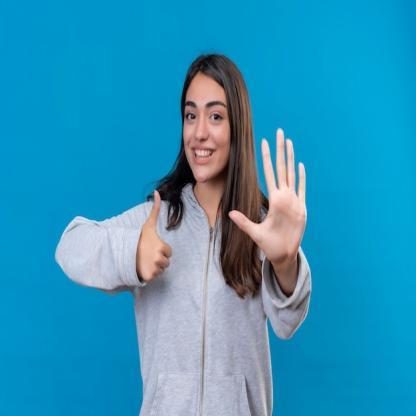stop: (227, 126, 309, 266)
thumb_up: (136, 187, 172, 290)
